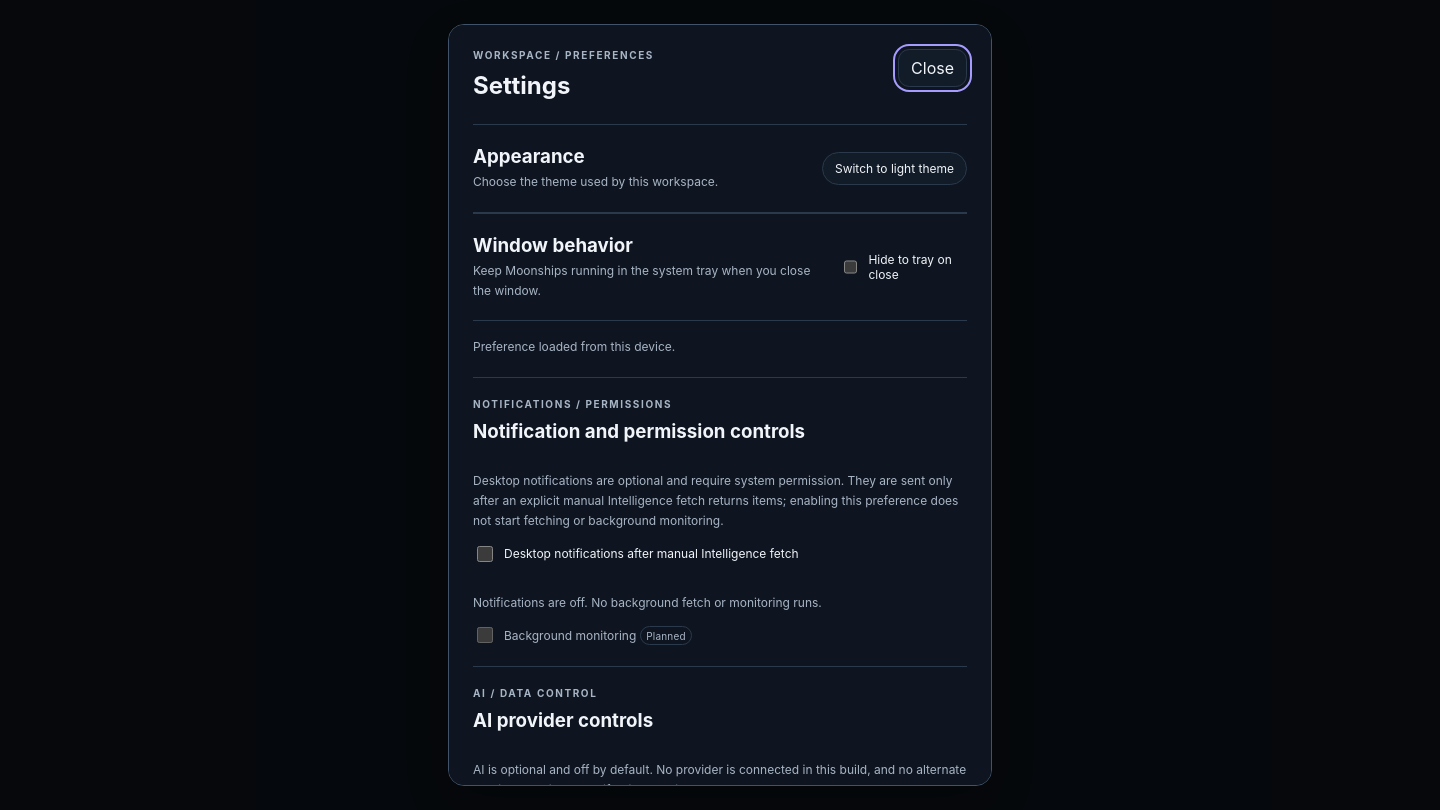
M5-014 explicit desktop notification preference › requests OS permission from the user's enable action before persisting opt-in
Click the checkbox labelled "Desktop notifications after manual Intelligence fetch": click(485, 554) [477,546,493,562]
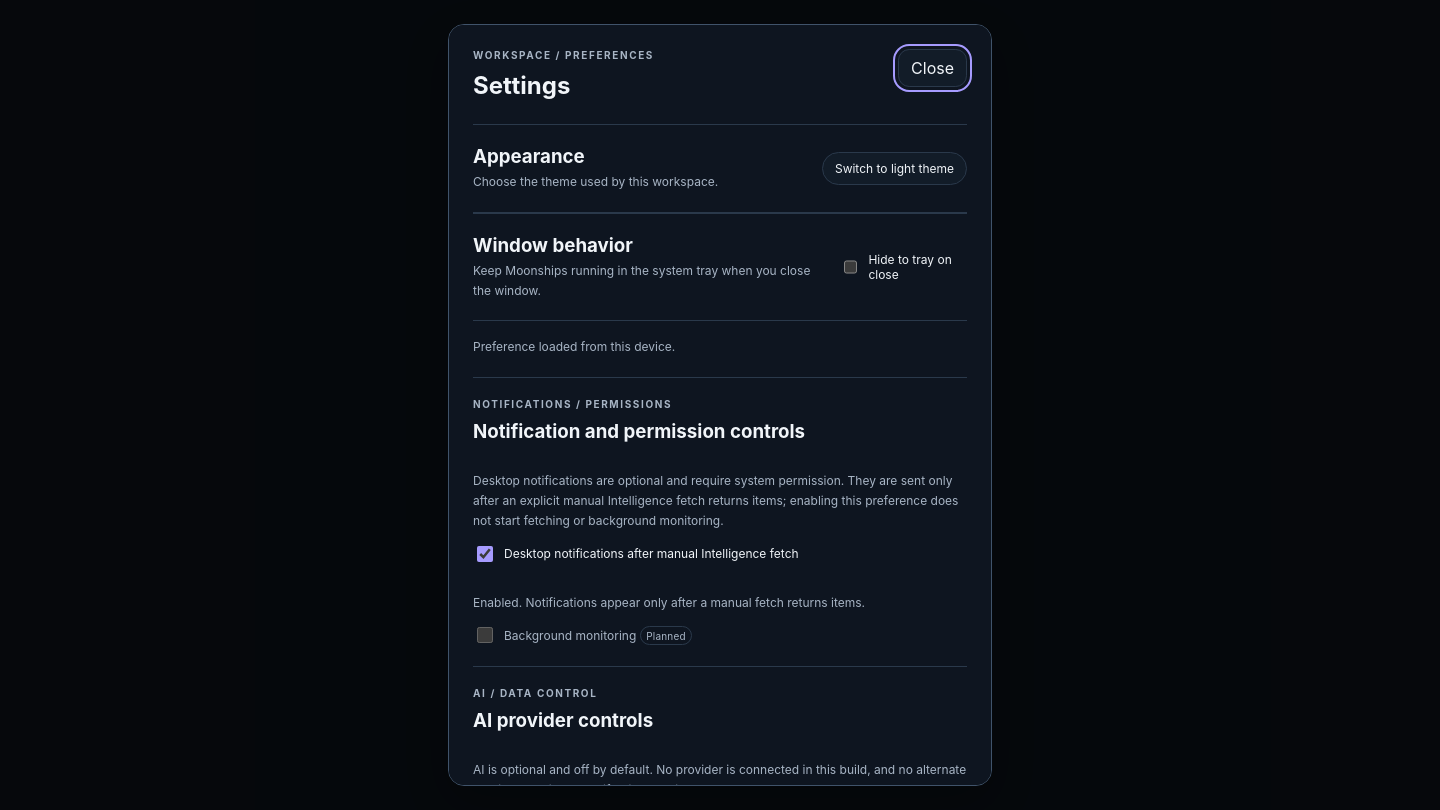
expect the checkbox labelled "Desktop notifications after manual Intelligence fetch" is checked: met, box [477,546,493,562]
expect the text "Enabled. Notifications appear only after a manual fetch returns items." is shown: met, box [473,595,865,610]
